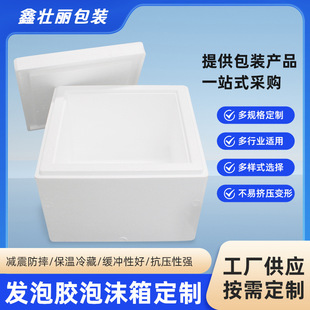泡沫箱: (14, 43, 206, 242)
